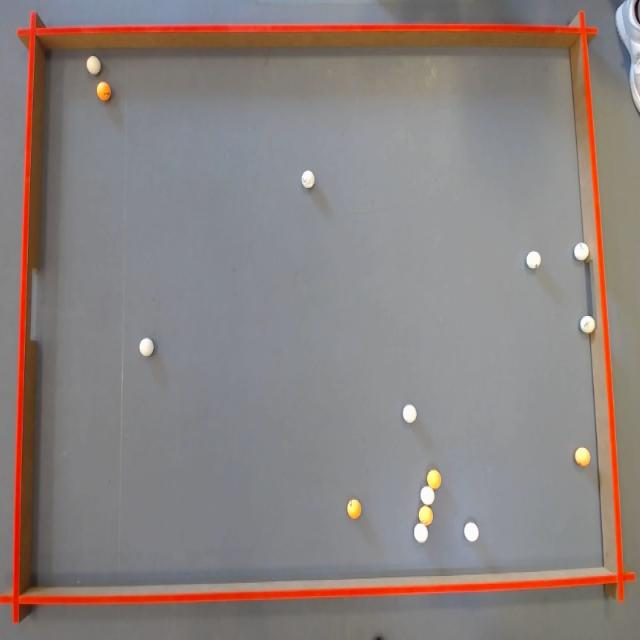orange_ball: (575, 447, 590, 466), (418, 506, 433, 525), (347, 499, 361, 519), (427, 469, 441, 489), (96, 81, 110, 101)
white_ball: (464, 521, 478, 542), (139, 338, 154, 357), (574, 242, 589, 261), (580, 316, 595, 334), (526, 251, 541, 269), (414, 524, 428, 543), (86, 56, 100, 74), (420, 486, 434, 504), (403, 405, 416, 423), (302, 170, 314, 188)
